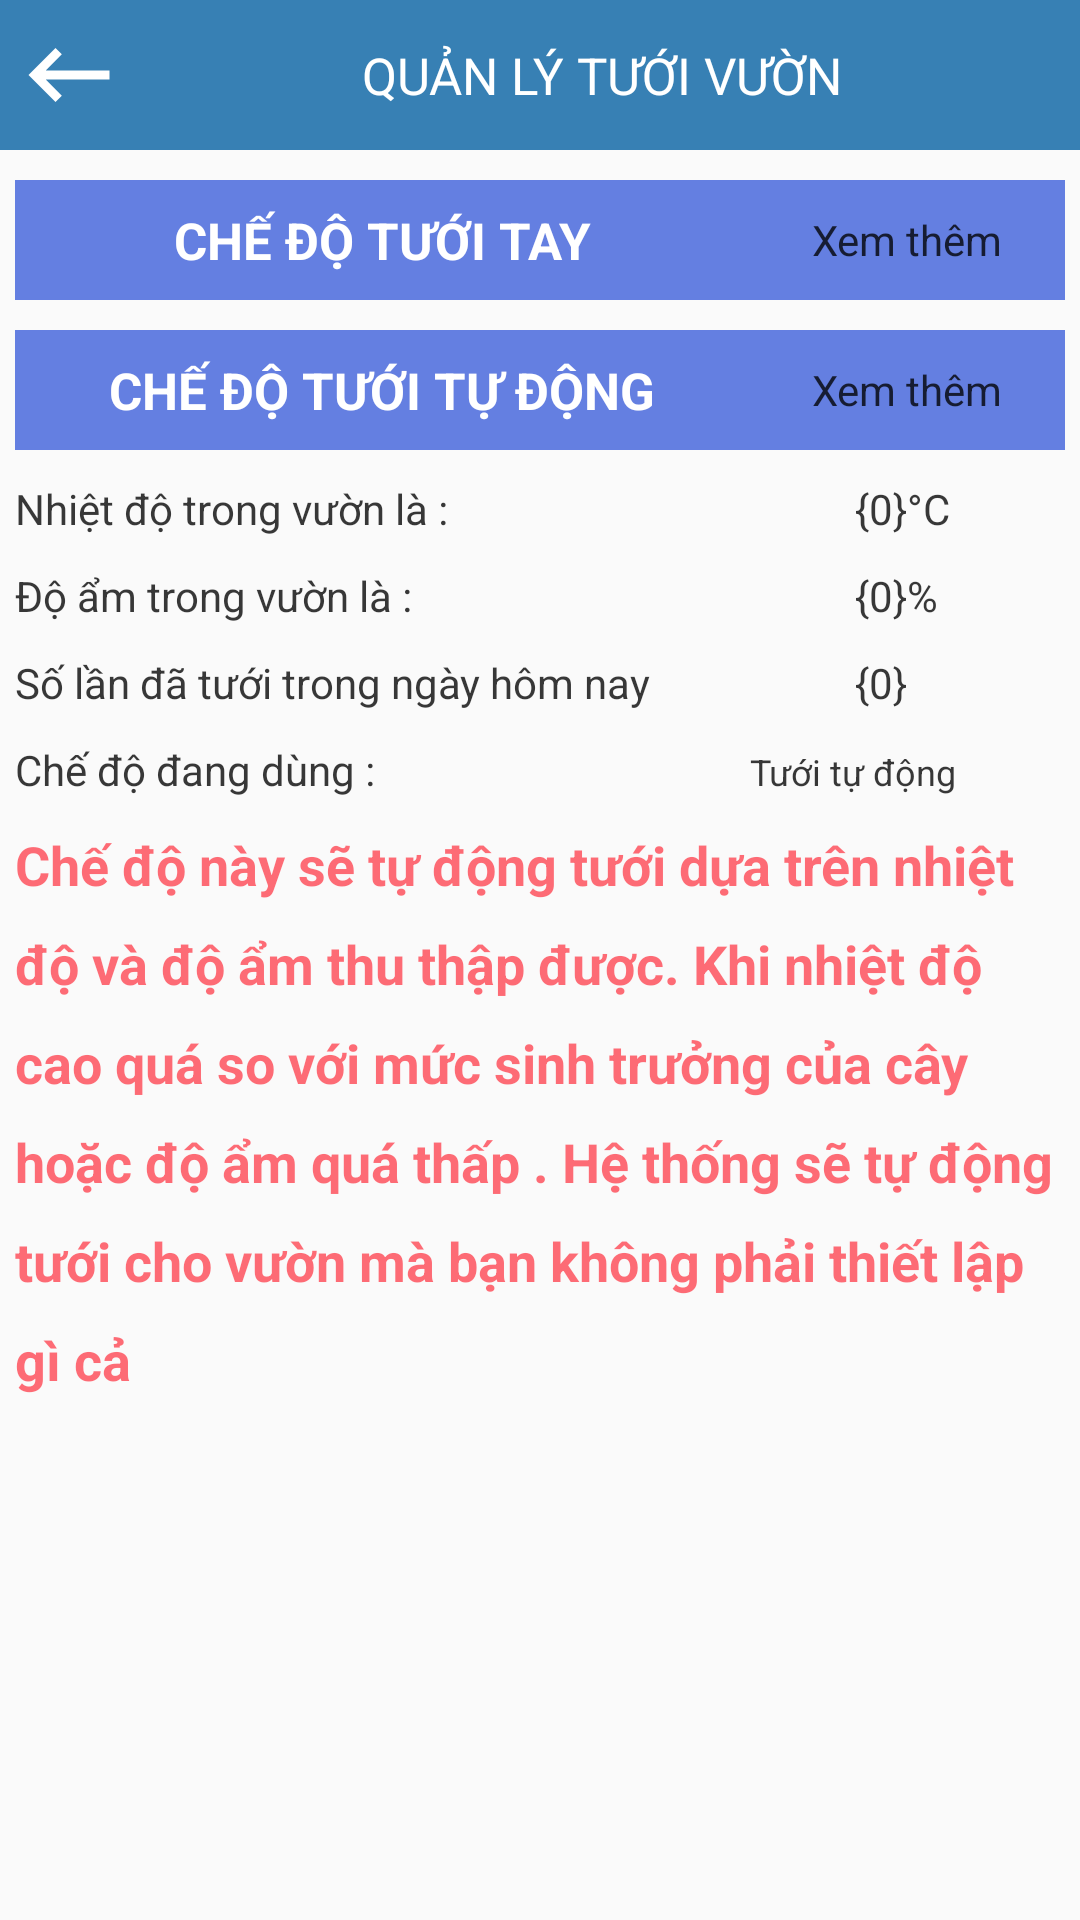

Screen size 1080 × 1920. Icon name, then its box in pixels as (x1, y1, x2, y2):
keyboard backspace: (29, 48, 110, 102)
